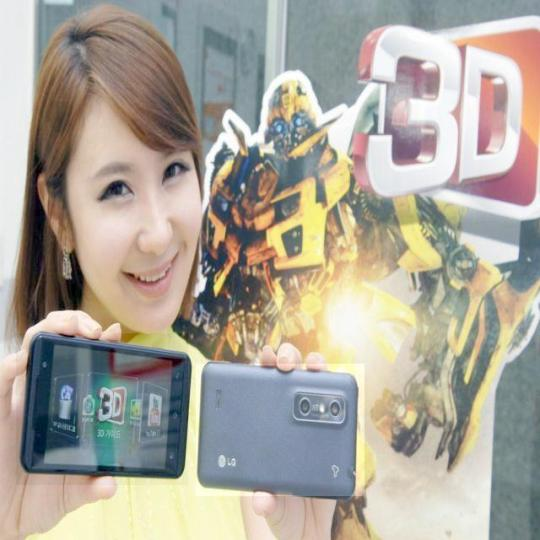phone: (20, 330, 192, 488), (194, 348, 365, 502)
